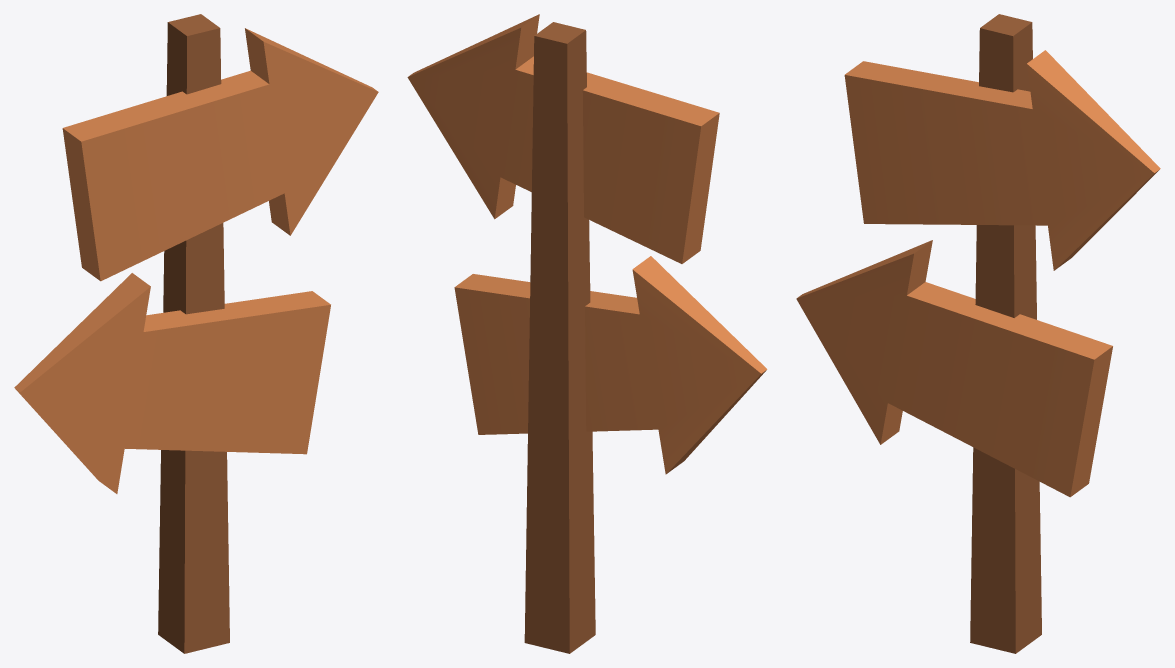
Rendered from arrows.dae.
3 views of the same model, side by side, from view 1: azimuth 30°, elevation 25°; view 2: azimuth 150°, elevation 25°; view 3: azimuth 330°, elevation 25° (orthographic).
Visible parts, largest first — view 1: arrows; view 2: arrows; view 3: arrows.
Boxes of the visible parts, left/top/right/bottom form: arrows: left=14, top=14, right=378, bottom=653; arrows: left=407, top=14, right=767, bottom=653; arrows: left=796, top=14, right=1160, bottom=653.
Size of the model in its own units: 0.55 by 0.9 by 0.0998.
